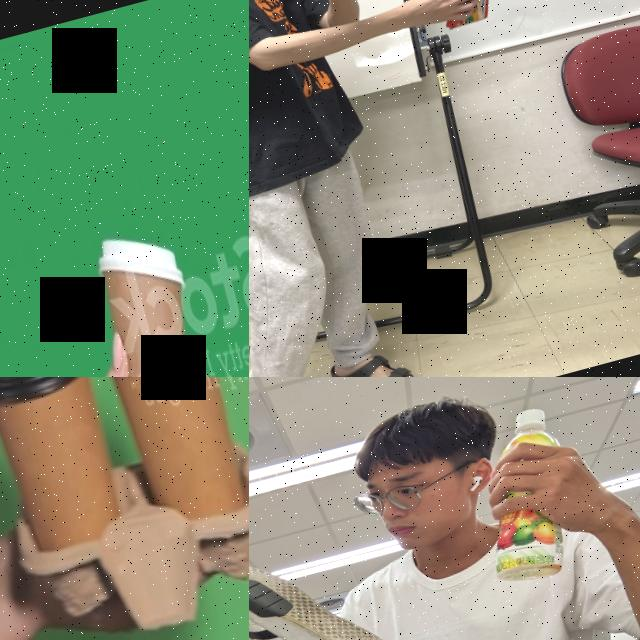bottle: (454, 402, 594, 592)
cup: (79, 377, 249, 536), (0, 377, 138, 561), (75, 220, 232, 377)
